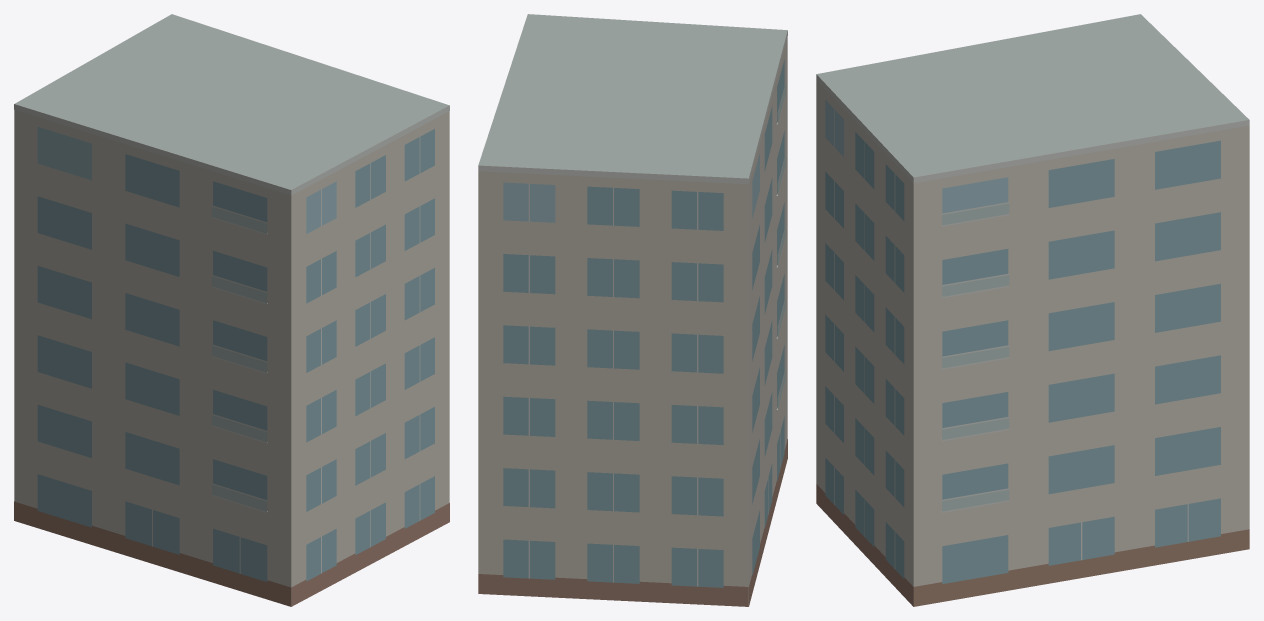
File: survey-upis-32582845.glb
3 renders of one model, left to right at view 1: azimuth 30°, elevation 25°; view 2: azimuth 150°, elevation 25°; view 3: azimuth 270°, elevation 25°, orthographic. The views are drawn at different scales.
Parts seen in each view (by area): view 1: survey-upis-32582845.tmp; view 2: survey-upis-32582845.tmp; view 3: survey-upis-32582845.tmp.
Part boxes in pixels (<box>): survey-upis-32582845.tmp: <box>14,14,449,606</box>; survey-upis-32582845.tmp: <box>478,14,787,606</box>; survey-upis-32582845.tmp: <box>816,14,1249,606</box>.
Size of the model in its own units: 14.96 by 18.3 by 16.74.
